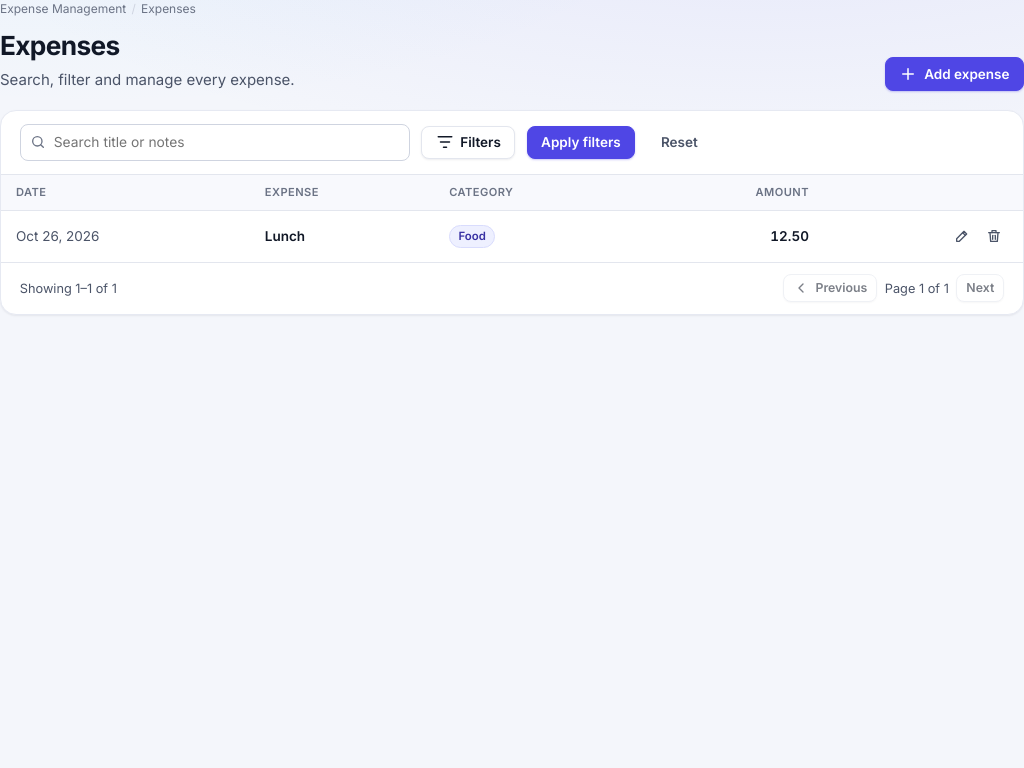
Scenario: ExpensesPage › delete cancelled → nothing is deleted
The image size is (1024, 768).
Check: the cell "Lunch" is shown, box [250,211,434,262]
Click the 2nd button named "Delete Lunch" at x=994, y=236, box [980,222,1008,250]
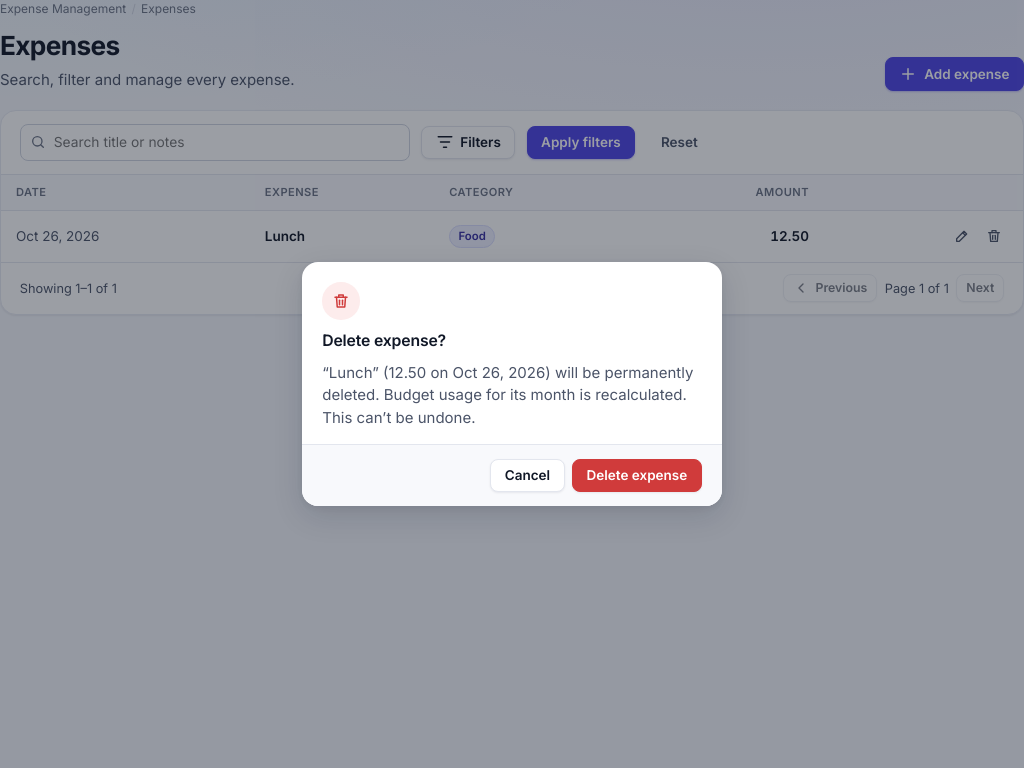
Click the button "Cancel" at x=527, y=476, box [490,459,564,492]
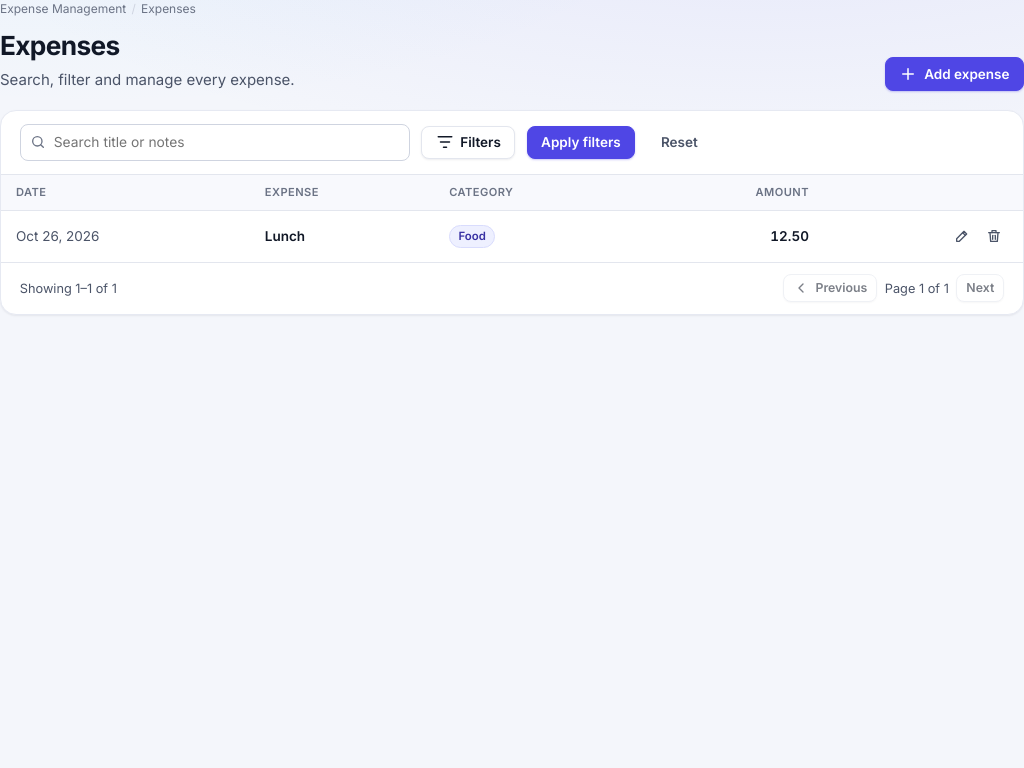
Check: the dialog is gone
